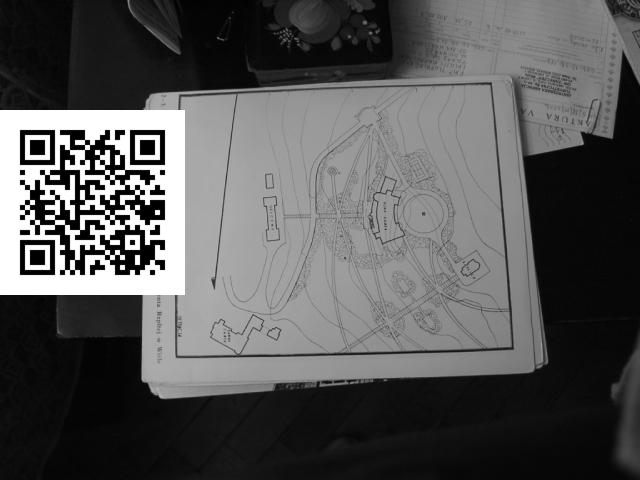qr_code: (5, 114, 178, 288)
